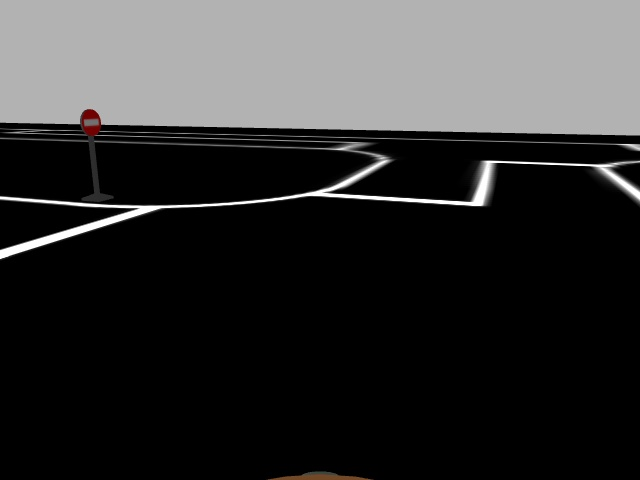prohibited: (79, 108, 102, 139)
